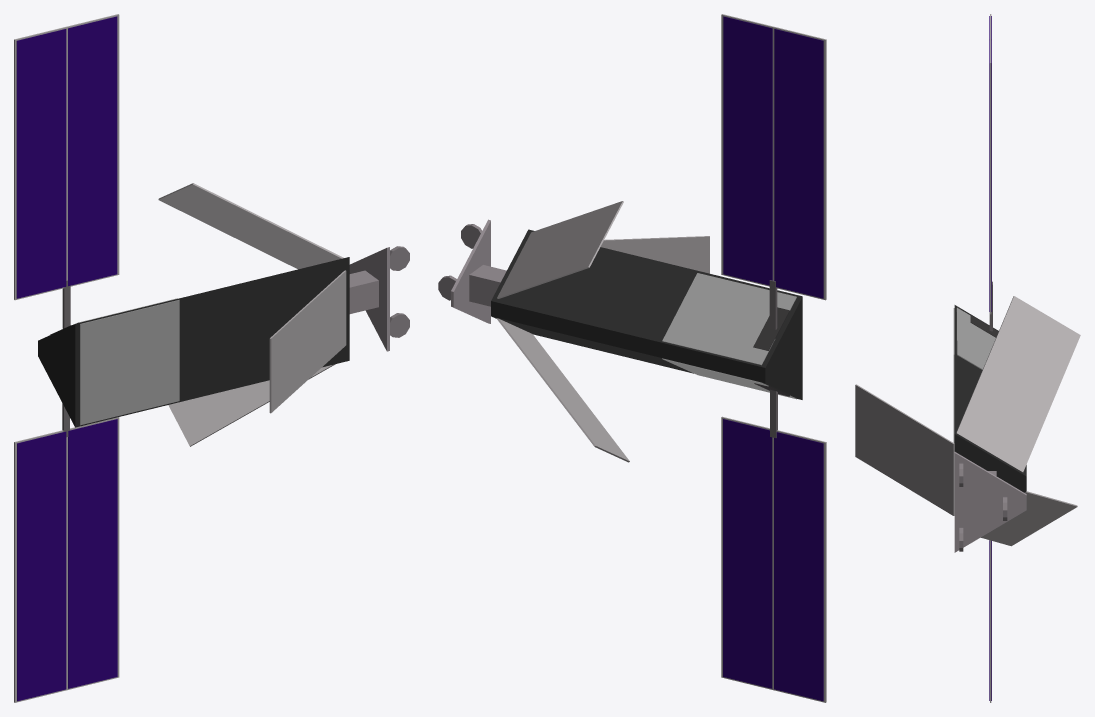
Rendered from iridium_med.gltf.
3 renders of one model, left to right at view 1: azimuth 30°, elevation 25°; view 2: azimuth 150°, elevation 25°; view 3: azimuth 270°, elevation 25°, orthographic. The views are drawn at different scales.
Visible parts, largest first — view 1: Cube, Cube.141, Cube.137, Cube.142, Cube.138, Cube.012, Cube.044, Cube.017, Cube.105, Cube.140, Cube.136, Cube.144 (+1 smaller); view 2: Cube, Cube.141, Cube.138, Cube.142, Cube.137, Cube.001, Cube.017, Cube.105, Cube.140, Cube.044, Cube.136, Cube.144 (+3 smaller); view 3: Cube.017, Cube.044, Cube.144, Cube, Cube.105, Cube.001, Cube.140, Cube.142.
Boxes of the visible parts, x1,y1,x2,y2 form: Cube: (38, 257, 349, 427); Cube.141: (16, 29, 66, 298); Cube.137: (68, 419, 117, 688); Cube.142: (68, 16, 117, 286); Cube.138: (17, 431, 66, 701); Cube.012: (80, 300, 179, 425); Cube.044: (269, 270, 346, 413); Cube.017: (158, 183, 343, 269); Cube.105: (168, 364, 335, 446); Cube.140: (14, 14, 119, 300); Cube.136: (14, 417, 119, 702); Cube.144: (349, 247, 389, 351); Cube: (491, 229, 802, 399); Cube.141: (774, 29, 823, 298); Cube.138: (774, 432, 823, 701); Cube.142: (723, 16, 772, 285); Cube.137: (723, 419, 772, 688); Cube.001: (662, 273, 796, 365); Cube.017: (497, 201, 623, 298); Cube.105: (496, 318, 629, 462); Cube.140: (721, 14, 826, 300); Cube.044: (600, 236, 709, 273); Cube.136: (721, 416, 826, 702); Cube.144: (451, 219, 490, 323); Cube.017: (956, 296, 1080, 472); Cube.044: (855, 384, 954, 515); Cube.144: (954, 452, 1026, 552); Cube: (954, 305, 1026, 492); Cube.105: (981, 491, 1077, 546); Cube.001: (956, 307, 995, 369); Cube.140: (990, 14, 991, 314); Cube.142: (989, 40, 991, 311).
Size of the model in its own units: 7.64 by 12.76 by 4.08.
